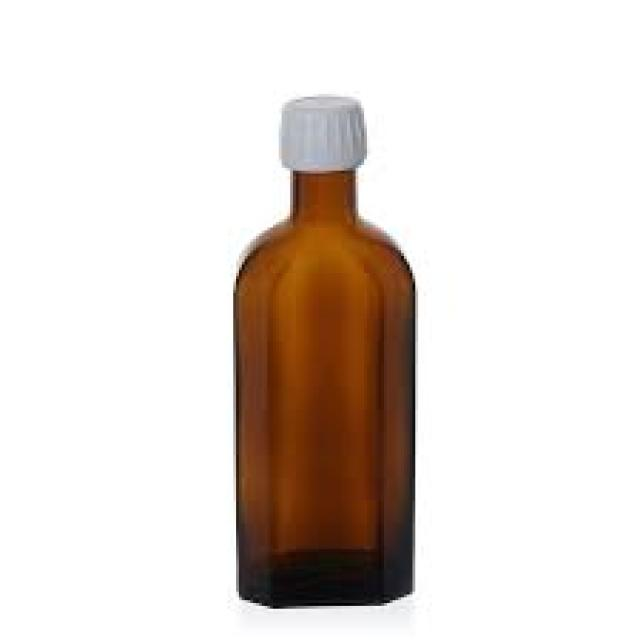glass: (231, 168, 413, 606)
plastic: (279, 94, 364, 168)
